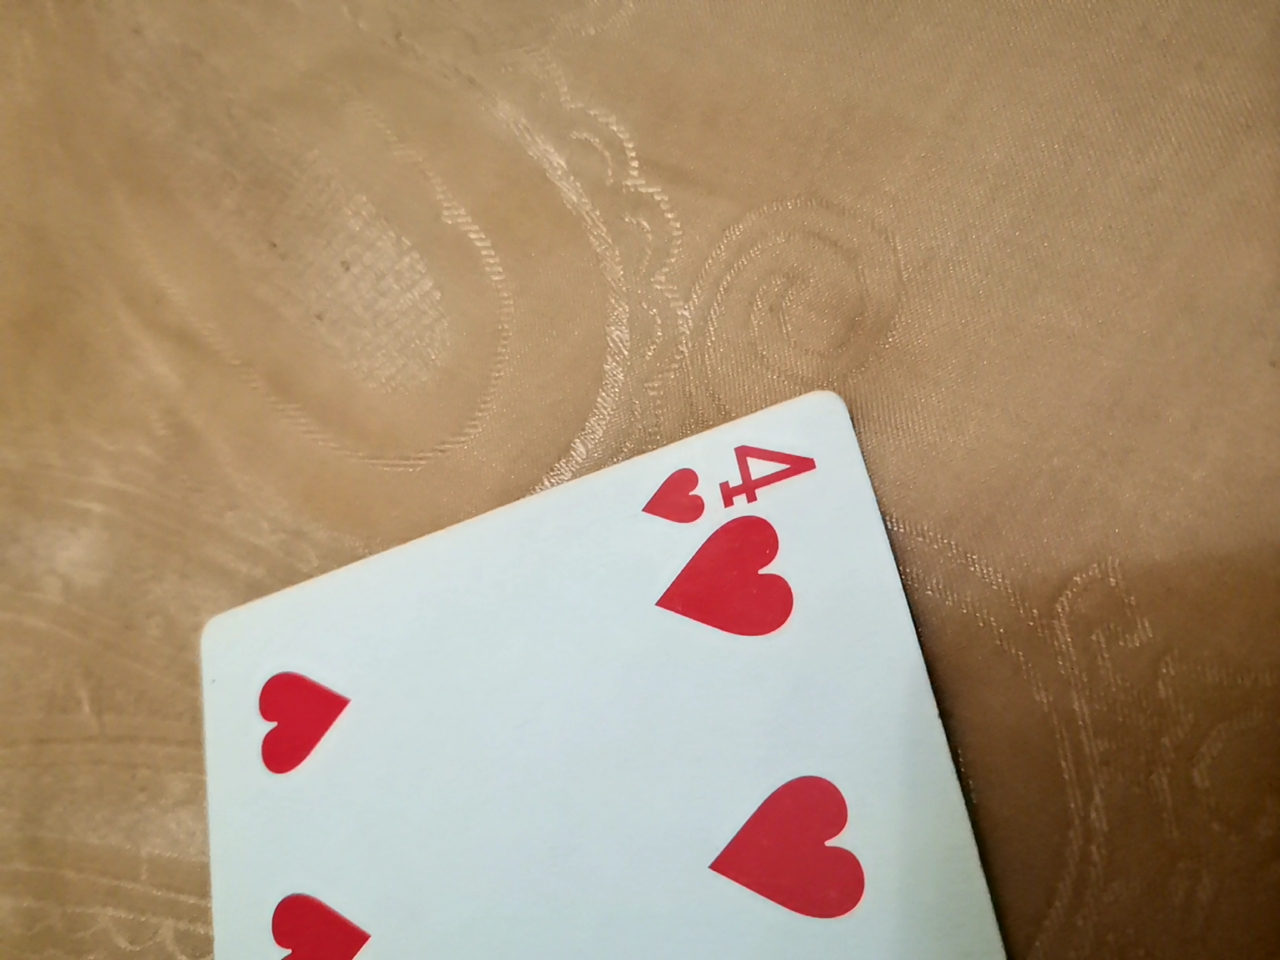hx 4: (171, 362, 1019, 951)
